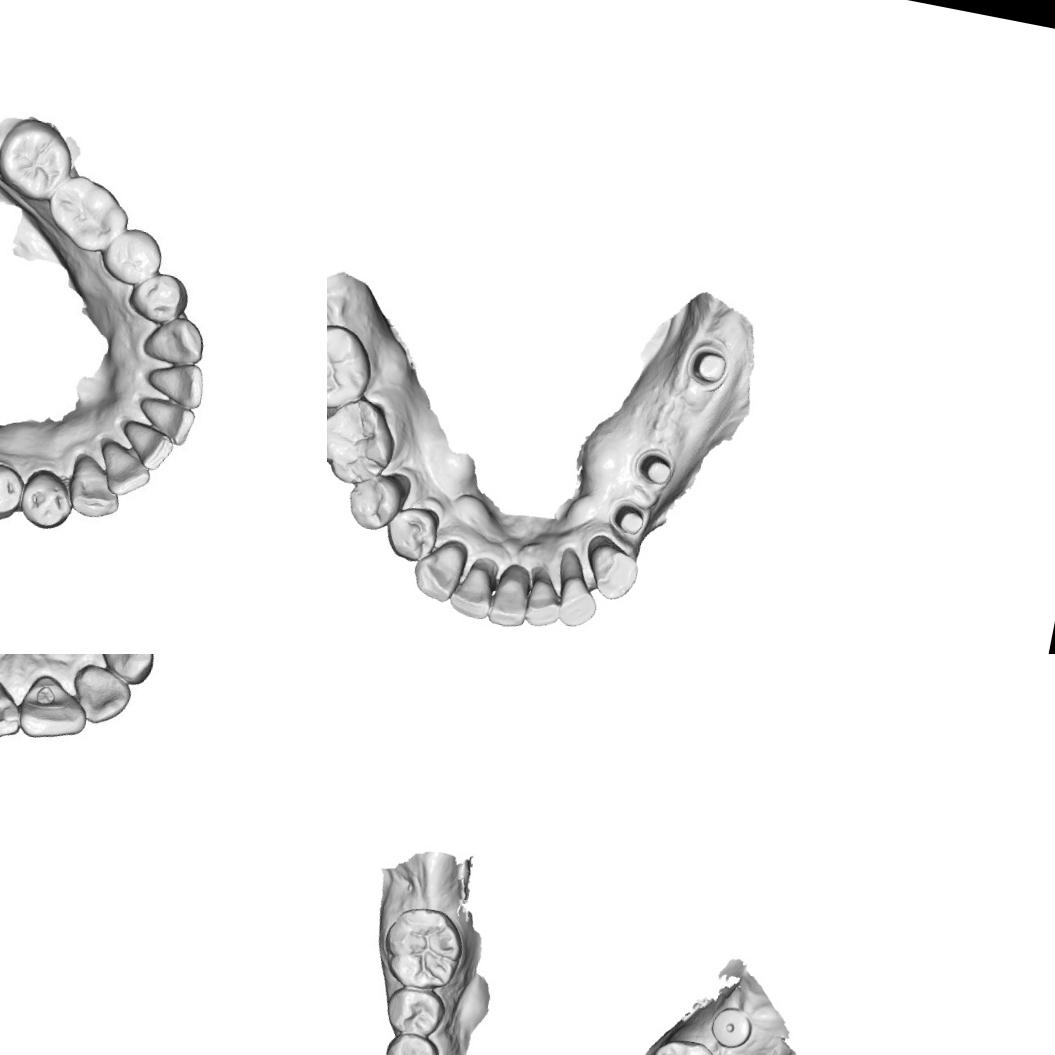abutment: (684, 343, 730, 390), (630, 446, 676, 490), (606, 497, 651, 541)
canine: (404, 536, 472, 608), (138, 311, 208, 376), (582, 537, 644, 605), (64, 456, 124, 520), (94, 654, 161, 690)
implant: (706, 1002, 756, 1052)
incisor: (13, 668, 92, 748), (66, 659, 135, 730), (146, 358, 205, 416), (552, 570, 605, 632), (96, 442, 154, 498), (482, 570, 534, 632), (134, 393, 196, 444), (446, 560, 497, 622), (121, 422, 174, 475), (520, 575, 568, 631), (0, 671, 26, 752)
molar: (375, 900, 470, 996), (327, 388, 407, 493), (43, 174, 131, 254), (0, 114, 77, 196), (327, 313, 380, 419), (630, 1031, 730, 1055)
premolar: (124, 266, 195, 330), (378, 500, 444, 568), (342, 467, 407, 536), (378, 981, 449, 1042), (100, 229, 166, 284), (18, 467, 73, 528), (378, 1027, 442, 1055), (0, 459, 24, 524)
